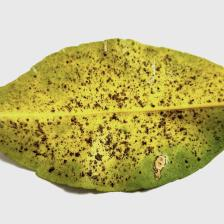canker: (55, 70, 213, 188)
